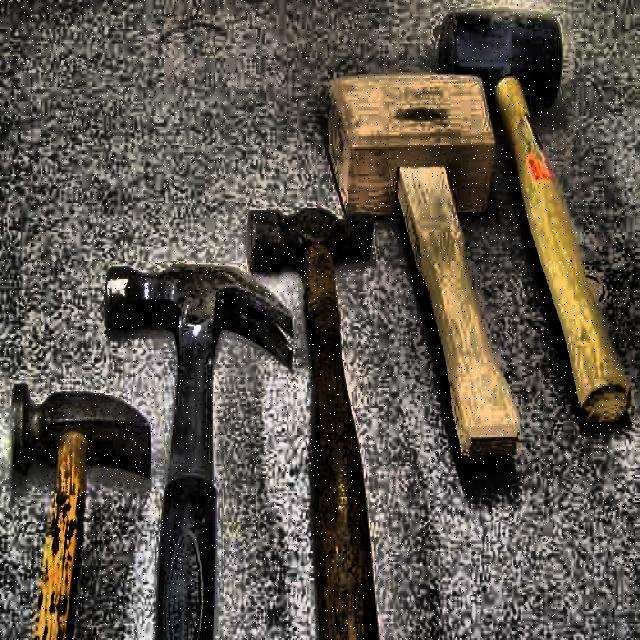hammer: (106, 262, 292, 640), (249, 206, 374, 640), (9, 382, 150, 640)
